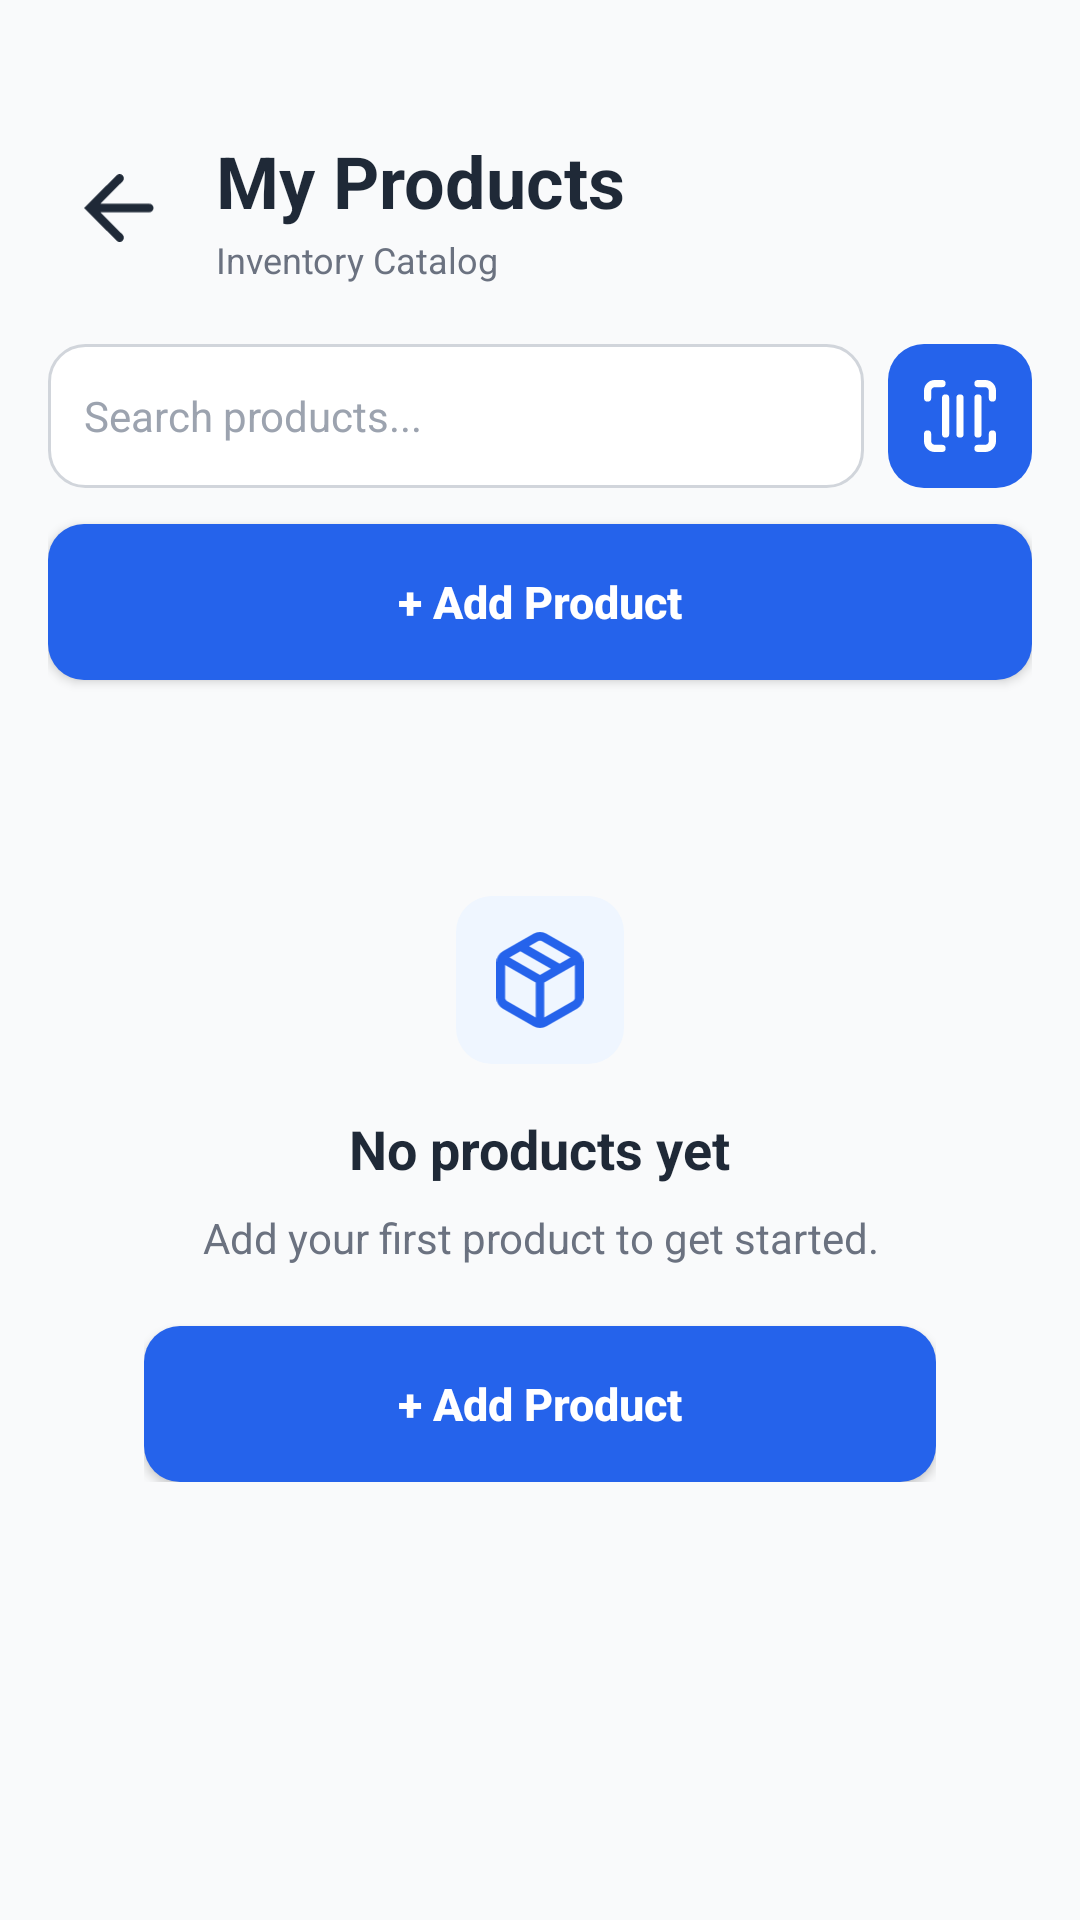

Where icons sit on this 1080×1920 app screen, as box=[x1, y1, x2, y2]:
Back to Dashboard: box=[84, 174, 154, 242]
Empty state icon: box=[456, 896, 624, 1064]
Scan Barcode: box=[888, 344, 1032, 488]
